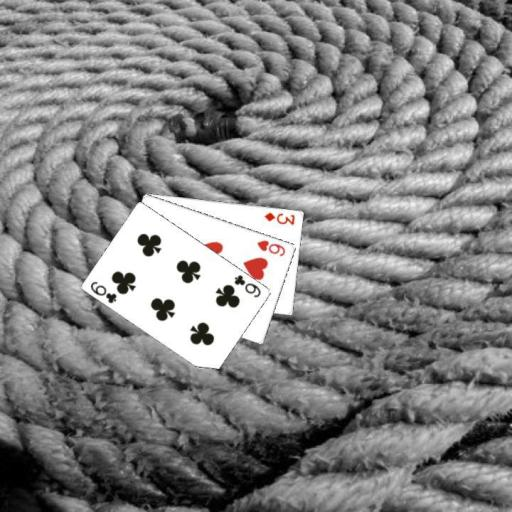3D: (261, 209, 297, 226)
6C: (231, 272, 263, 299), (87, 278, 119, 305)
6H: (254, 237, 287, 257)
